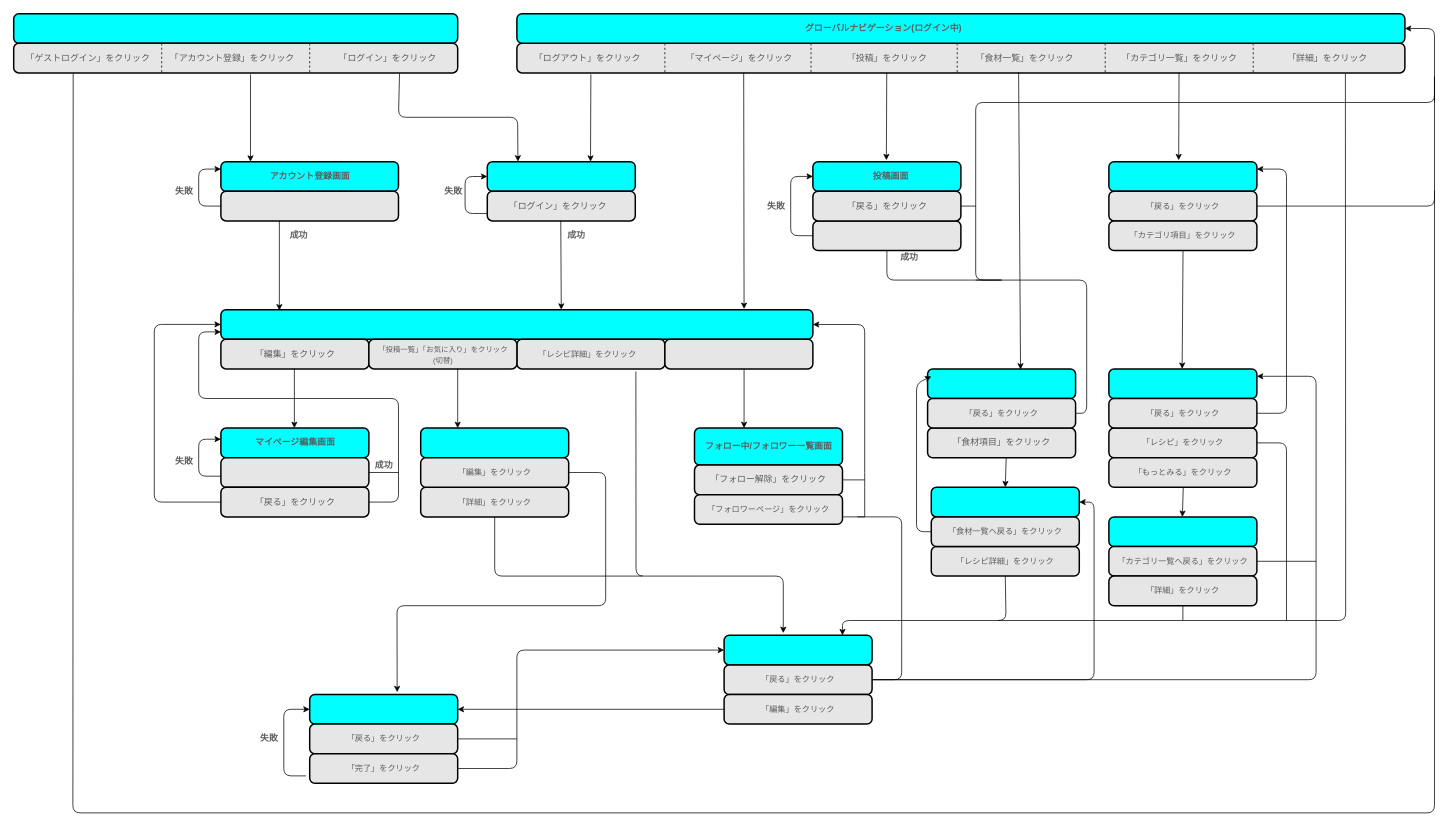
Image size: 1453x827. Some labels were removed from this diagram. Here are the shapes that lost their labels. From the top down, the box of each, then its label:
(13, 13, 458, 44): グローバルナビゲーション(ログアウト中)
(486, 161, 636, 192): ログイン画面
(1108, 161, 1257, 192): カテゴリ一覧画面
(220, 190, 399, 221): 「登録」をクリック
(812, 220, 961, 251): 「投稿する」をクリック
(220, 309, 813, 340): マイページ画面
(664, 338, 813, 369): 「フォロー/フォロワー」をクリック
(926, 368, 1076, 399): 食材一覧画面
(1108, 368, 1257, 399): カテゴリー別レシピ一覧
(420, 427, 569, 458): 投稿/お気に入り一覧画面
(220, 457, 369, 488): 「更新」をクリック
(930, 486, 1080, 517): 選択食材レシピ一覧
(1108, 516, 1257, 547): 選択カテゴリレシピ一覧
(723, 634, 872, 665): レシピ詳細画面
(309, 693, 458, 724): 投稿編集画面
